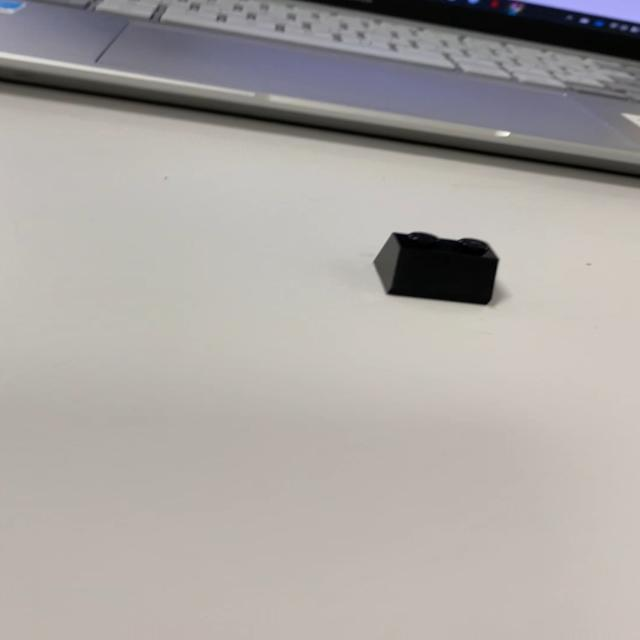P2x2x1: (372, 230, 499, 305)
